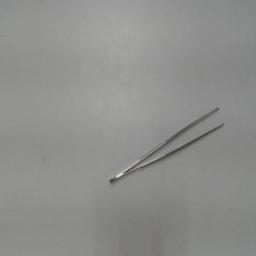Gillies Toothed Dissector: (107, 102, 231, 192)
